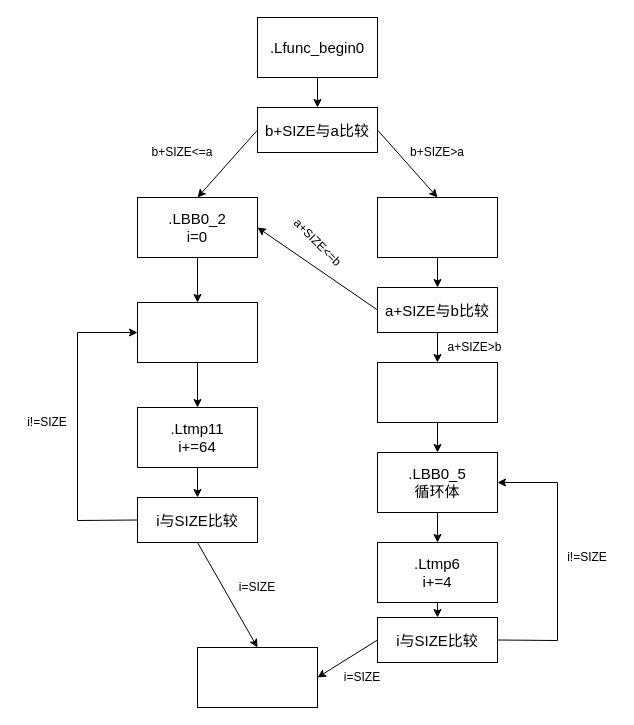
The diagram is 634 pixels wide and 725 high, and some of its shapes have lost their labels. Here are the shapes that lost their labels. From the top down, the box of each, then its label:
(376, 196, 498, 258): .Ltmp0
(136, 302, 258, 362): .LBB0_3 循环体
(376, 362, 498, 422): .Ltmp1 i=0
(196, 646, 318, 708): .LBB0_6
